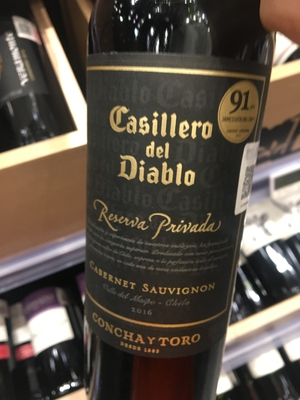casillero del diablo reserva privada cabernet sauvignon: (65, 8, 288, 376)
